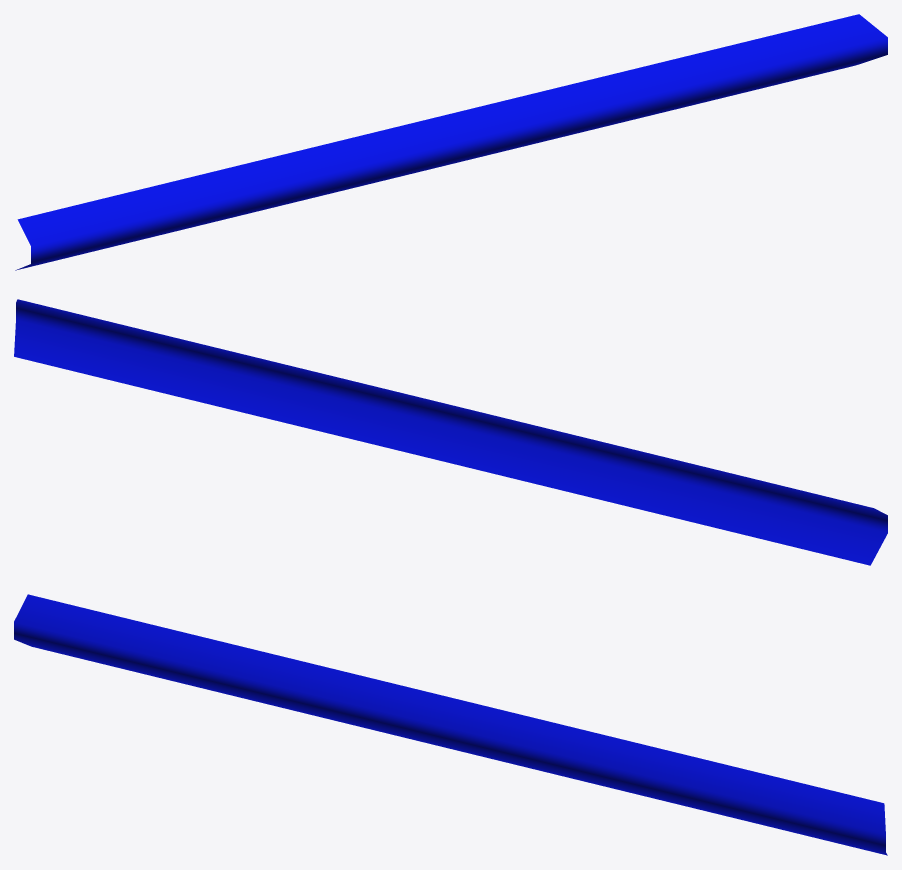
Rendered from Door_LatLock.fbx.
3 views of the same model, one above another, from view 1: azimuth 30°, elevation 25°; view 2: azimuth 150°, elevation 25°; view 3: azimuth 330°, elevation 25° (orthographic).
Visible parts, largest first — view 1: Door_LatLock; view 2: Door_LatLock; view 3: Door_LatLock.
Boxes of the visible parts, x1,y1,x2,y2 form: Door_LatLock: [15, 14, 887, 270]; Door_LatLock: [14, 299, 887, 565]; Door_LatLock: [14, 594, 887, 855].
Size of the model in its own units: 9.01 by 0.5424 by 0.3116.
